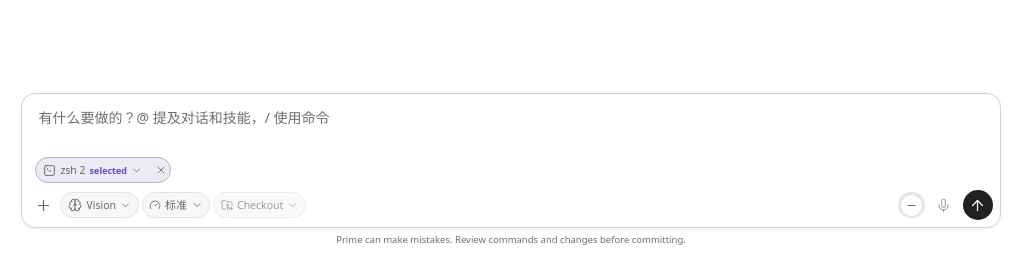
Test: Composer terminal context attachment › expands and clears highlighted terminal text through its live attachment
Expected: the button named "发送" is enabled, 963,190 -> 993,220
Click the button with aria-label "查看来自 zsh 2 的选中文本" at (93, 170), box 36,159 -> 149,181
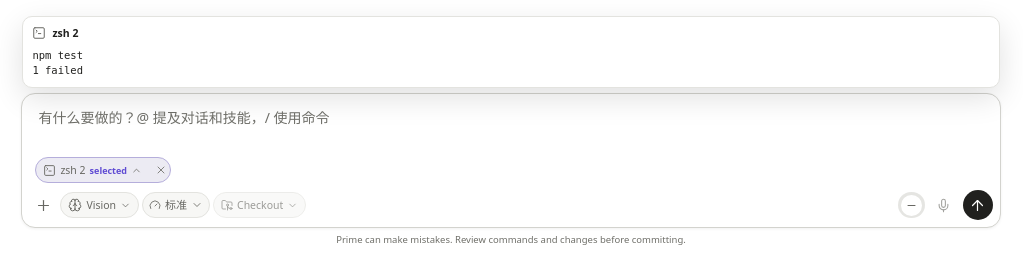
Expected: the element with class "composer-terminal-selection" shows "npm test", 32,49 -> 83,76
Click the button named "清除终端选中" at (159, 170), box 149,160 -> 169,180
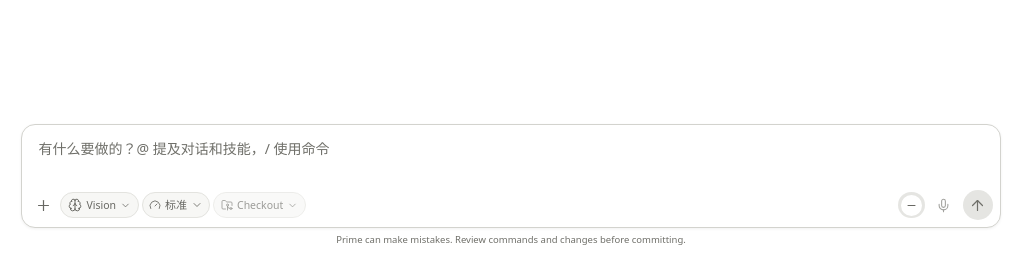
Expected: the element with class "composer-terminal-selection" is gone
Expected: the button named "清除终端选中" is gone
